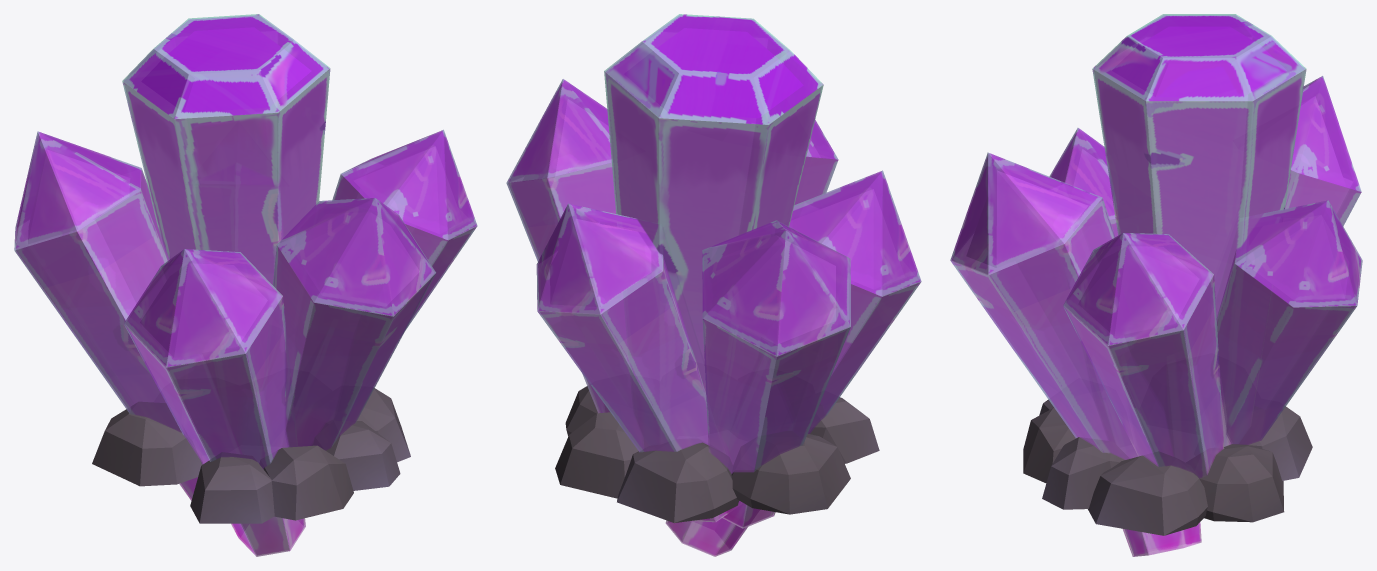
File: Crystal_01_TEST.fbx
The picture shows the model from 3 angles, left to right: view 1: azimuth 30°, elevation 25°; view 2: azimuth 150°, elevation 25°; view 3: azimuth 270°, elevation 25°; orthographic projection. The views are drawn at different scales.
Visible parts, largest first — view 1: Crystal_01_TEST; view 2: Crystal_01_TEST; view 3: Crystal_01_TEST.
Boxes of the visible parts, <box> form: Crystal_01_TEST: <box>14,14,477,556</box>; Crystal_01_TEST: <box>506,14,921,556</box>; Crystal_01_TEST: <box>950,14,1362,556</box>.
Size of the model in its own units: 92.35 by 117 by 85.13.
